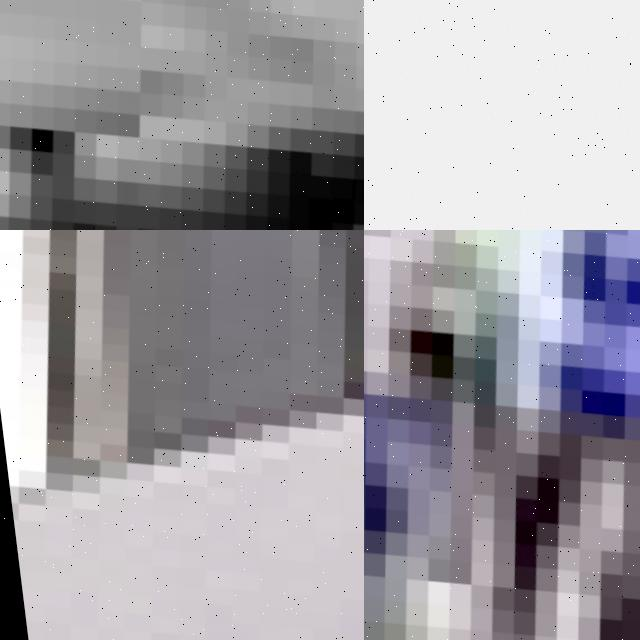0: (364, 230, 640, 640), (0, 0, 364, 230)
drone: (0, 230, 364, 640)
